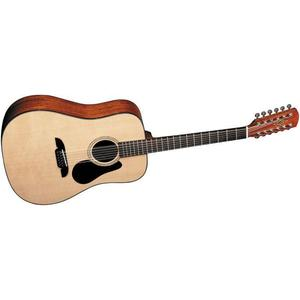guitar: (2, 93, 299, 207)
